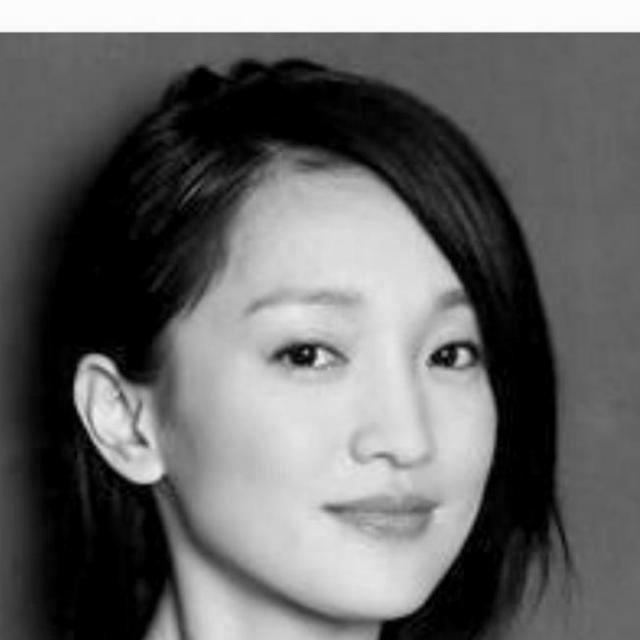real: (138, 132, 510, 626)
